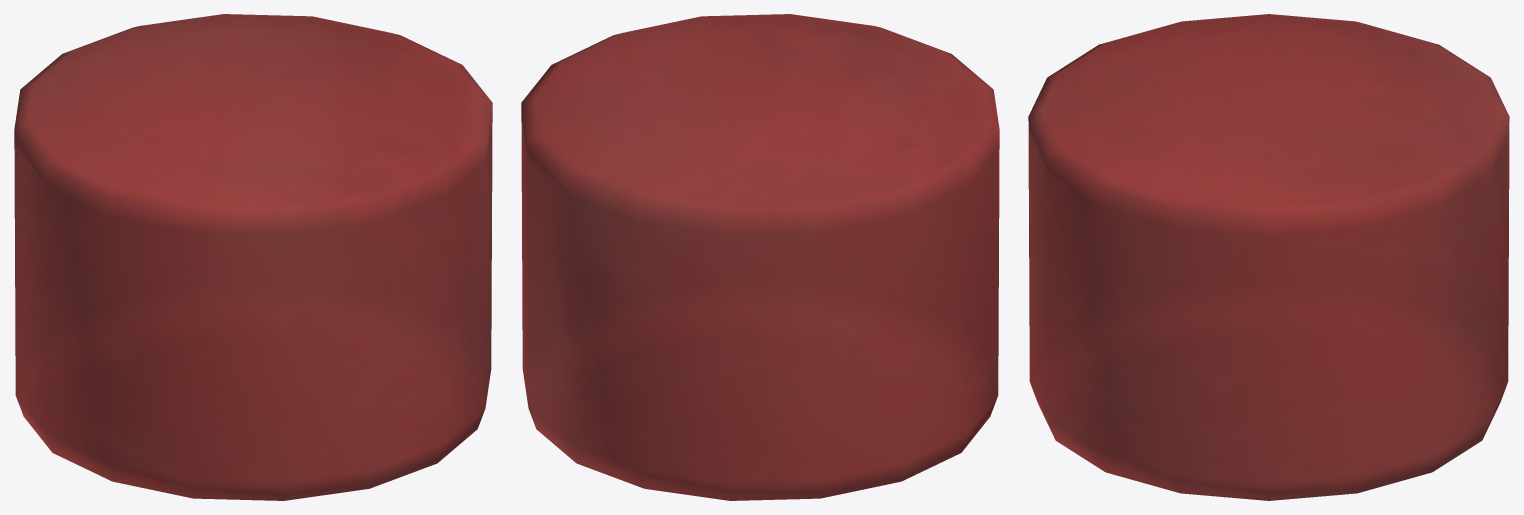
File: bottle_content_f.glb
The picture shows the model from 3 angles, left to right: view 1: azimuth 30°, elevation 25°; view 2: azimuth 150°, elevation 25°; view 3: azimuth 270°, elevation 25°; orthographic projection.
Parts seen in each view (by area): view 1: chemistry_set_bottle_content_f.001; view 2: chemistry_set_bottle_content_f.001; view 3: chemistry_set_bottle_content_f.001.
Part boxes in pixels (x1,y1,x2,y2): chemistry_set_bottle_content_f.001: (14,14,492,500); chemistry_set_bottle_content_f.001: (521,14,999,500); chemistry_set_bottle_content_f.001: (1028,14,1509,500).
Bounding box in the file's own units: 0.0454 × 0.0314 × 0.0454.
Materials: 1 (1 with a texture image).
